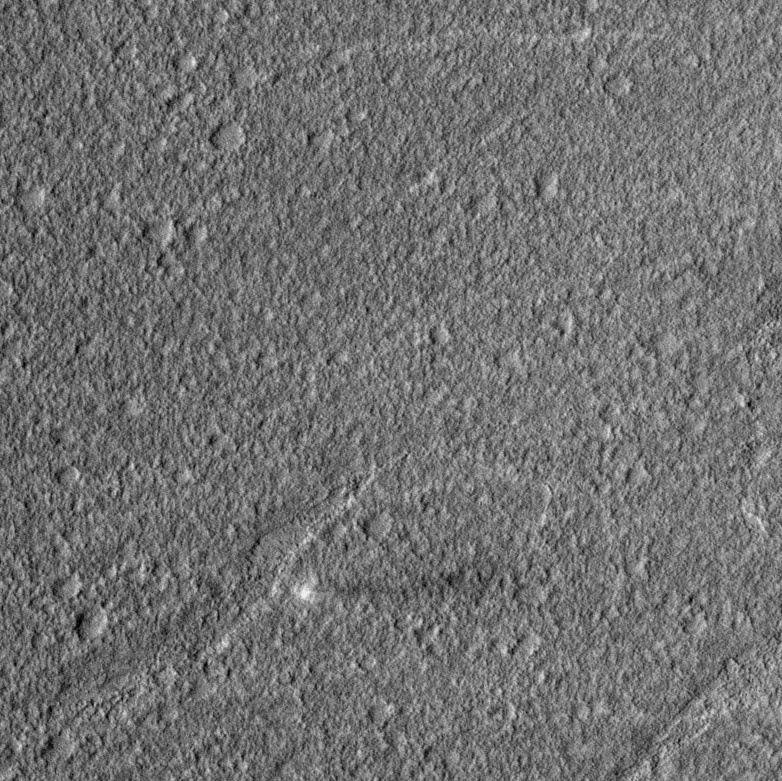dust_devil: (294, 566, 470, 608)
